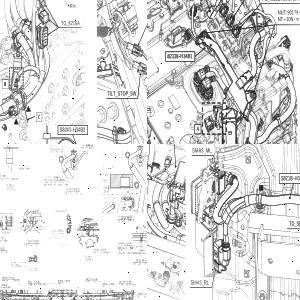PartNumber: (59, 126, 86, 133), (167, 52, 193, 59), (280, 174, 300, 181), (287, 8, 300, 14), (93, 248, 107, 251), (2, 276, 15, 279), (27, 280, 40, 283), (118, 242, 131, 245), (85, 277, 98, 280), (102, 282, 115, 285), (119, 280, 132, 283), (136, 291, 147, 294), (57, 280, 70, 282), (51, 229, 64, 231), (0, 283, 7, 286)
